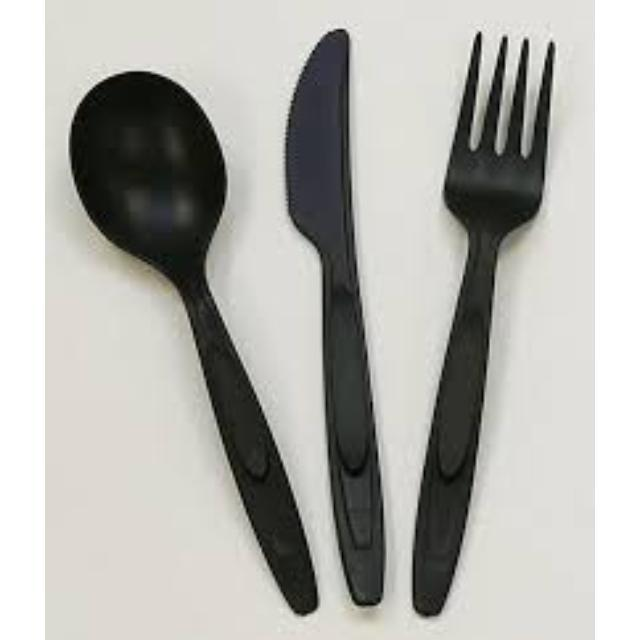Plastico descartable: (68, 70, 321, 619), (413, 34, 542, 621), (284, 32, 386, 610)
